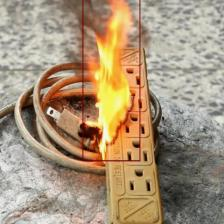fire: (83, 0, 140, 161)
